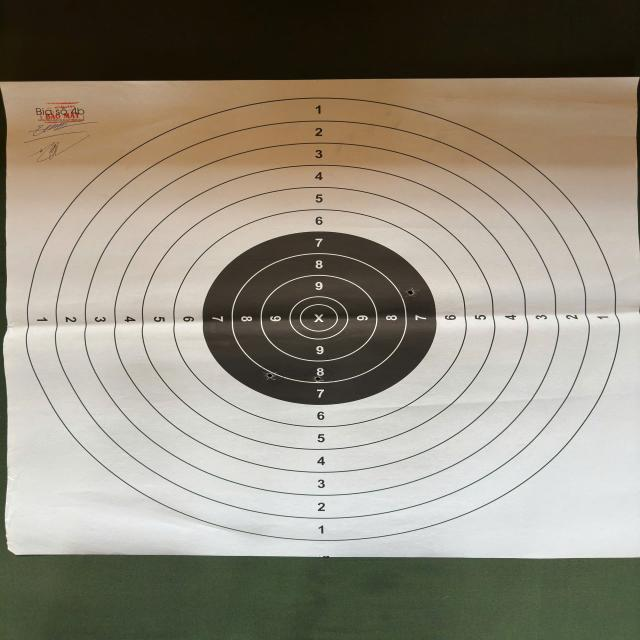bullet: (265, 373, 275, 380), (313, 375, 323, 382), (409, 288, 415, 296), (318, 370, 322, 373)
target: (8, 76, 636, 560)
